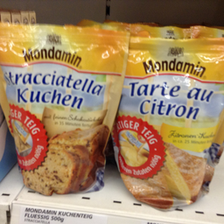cake: (1, 23, 130, 200), (106, 33, 224, 210)
